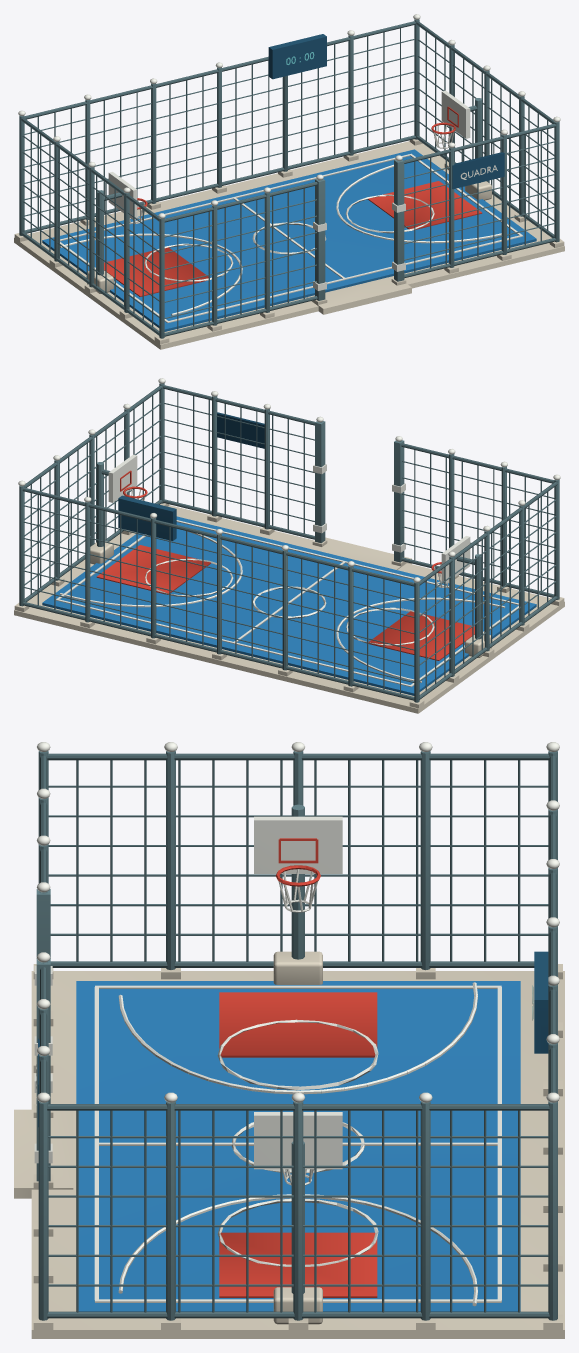
The model's file is court-low.glb.
The picture shows the model from 3 angles, top to bottom: view 1: azimuth 30°, elevation 25°; view 2: azimuth 150°, elevation 25°; view 3: azimuth 270°, elevation 25°; orthographic projection. The views are drawn at different scales.
Parts seen in each view (by area): view 1: basket stanchion, sport surface, continuous court apron, touchline, painted key, court number; view 2: basket stanchion, sport surface, continuous court apron, touchline, painted key, court number; view 3: sport surface, basket stanchion, continuous court apron, touchline, painted key, court number.
Boxes of the visible parts, bbox=[...] form: basket stanchion: bbox=[19, 19, 559, 338]; sport surface: bbox=[42, 149, 536, 331]; continuous court apron: bbox=[14, 136, 564, 349]; touchline: bbox=[18, 14, 560, 323]; painted key: bbox=[104, 106, 482, 296]; court number: bbox=[268, 34, 504, 189]; basket stanchion: bbox=[19, 383, 559, 702]; sport surface: bbox=[42, 516, 536, 695]; continuous court apron: bbox=[14, 500, 564, 713]; touchline: bbox=[18, 378, 560, 687]; painted key: bbox=[96, 470, 474, 660]; court number: bbox=[118, 412, 264, 540]; sport surface: bbox=[76, 981, 520, 1311]; basket stanchion: bbox=[36, 751, 557, 1320]; continuous court apron: bbox=[14, 951, 564, 1338]; touchline: bbox=[34, 742, 559, 1306]; painted key: bbox=[219, 838, 377, 1297]; court number: bbox=[38, 951, 548, 1127].
Size of the model in its own units: 4.3 by 1.4 by 2.79.
